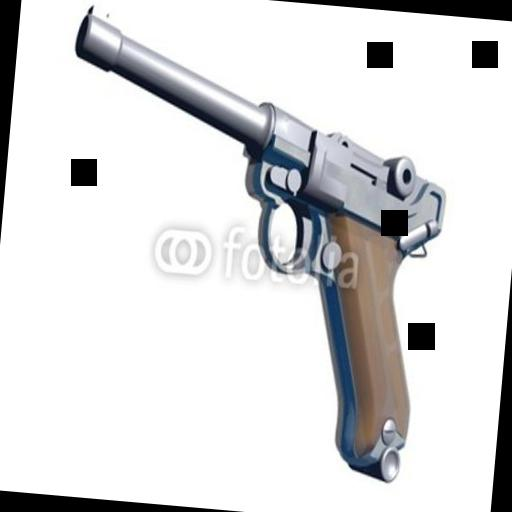Handgun: (37, 0, 459, 485)
